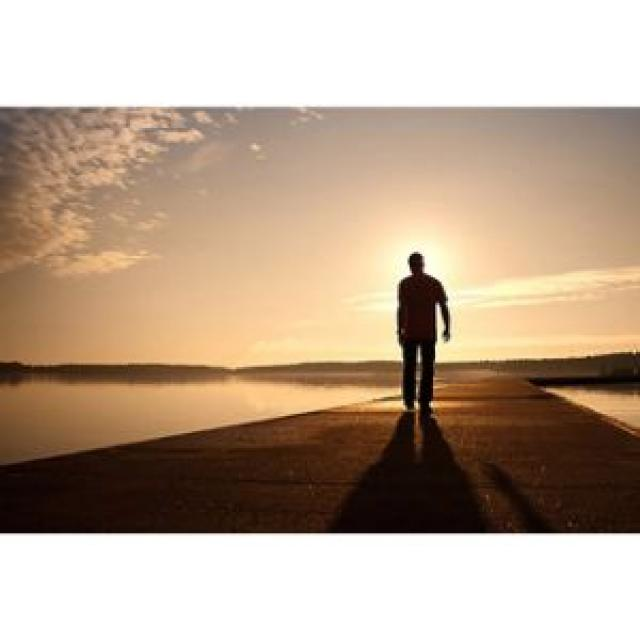nonfall: (396, 248, 450, 414)
